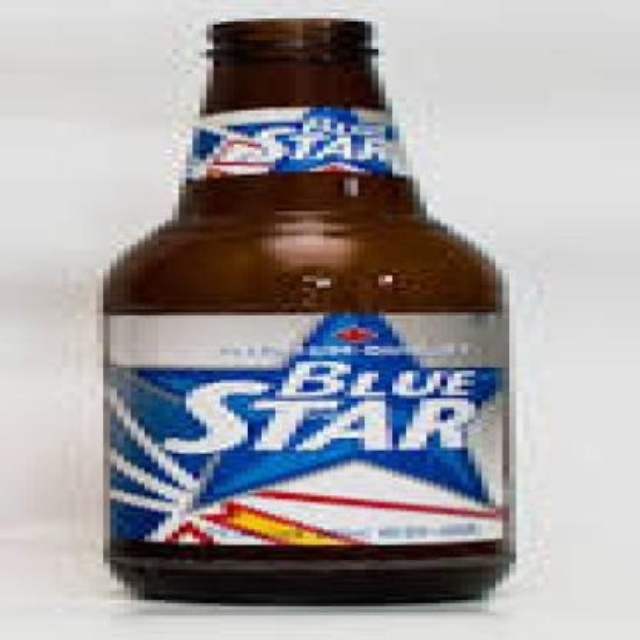trash: (105, 17, 512, 602)
